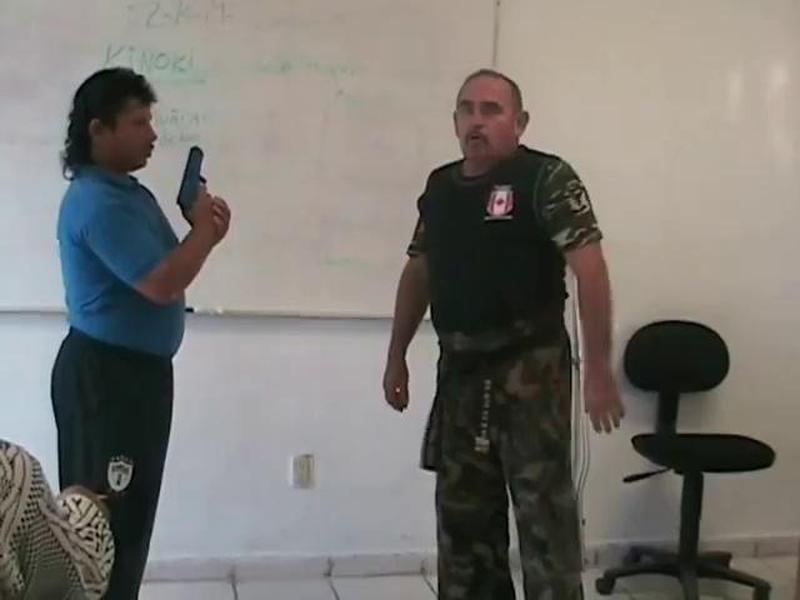Pistola: (164, 134, 233, 246)
